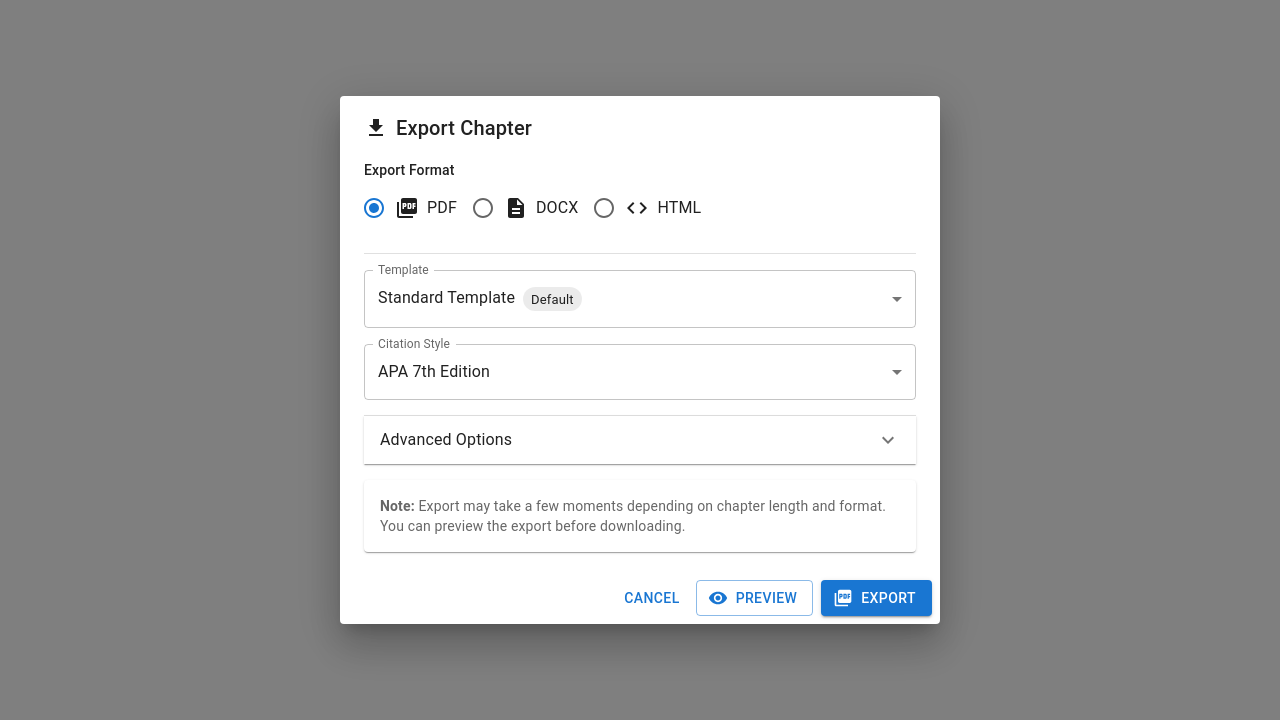
Test: ExportDialog Component › Export Functionality › should show error message on export failure
This screenshot has width=1280, height=720.
Click the button "Export".
click(877, 598)  # box [821, 580, 932, 616]
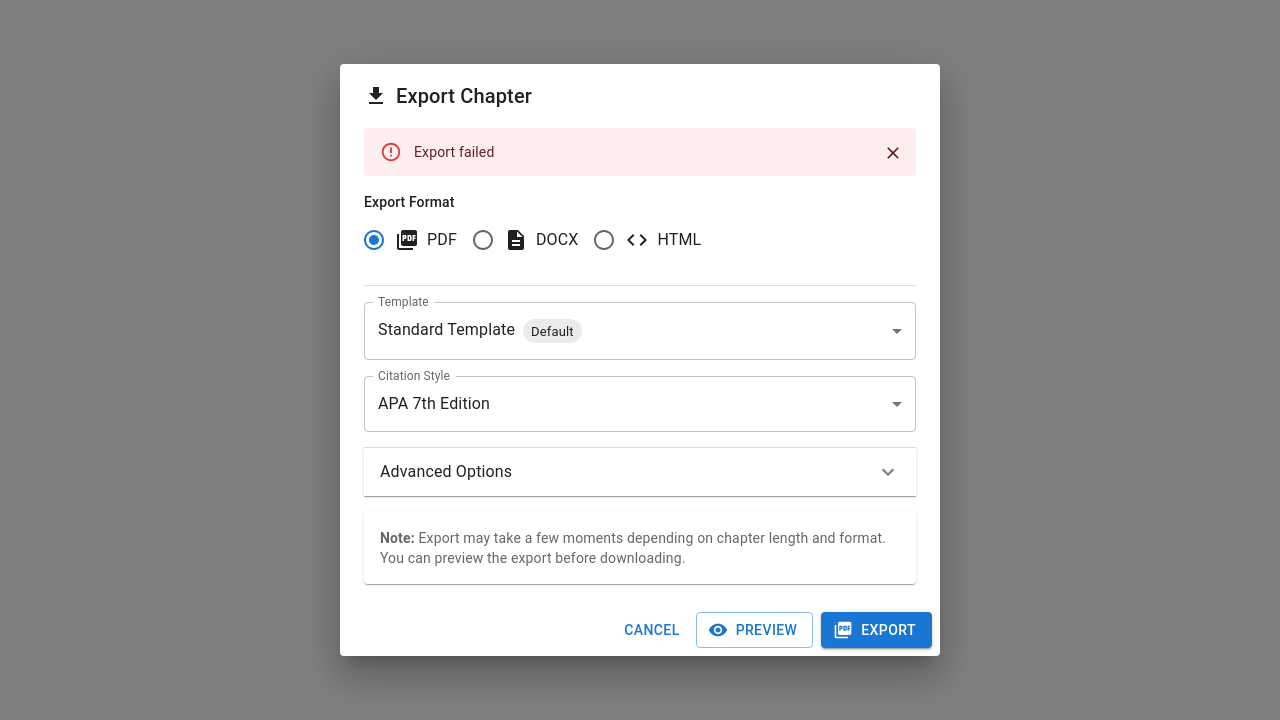
expect the text "Export failed" is shown: met, box [414, 144, 494, 160]
